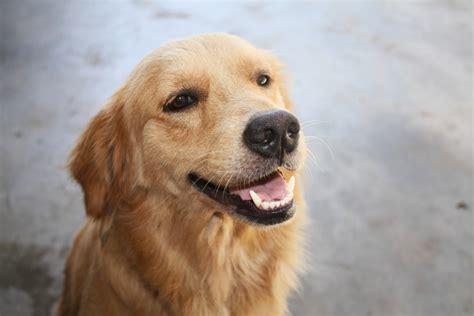dog: (58, 32, 305, 316)
